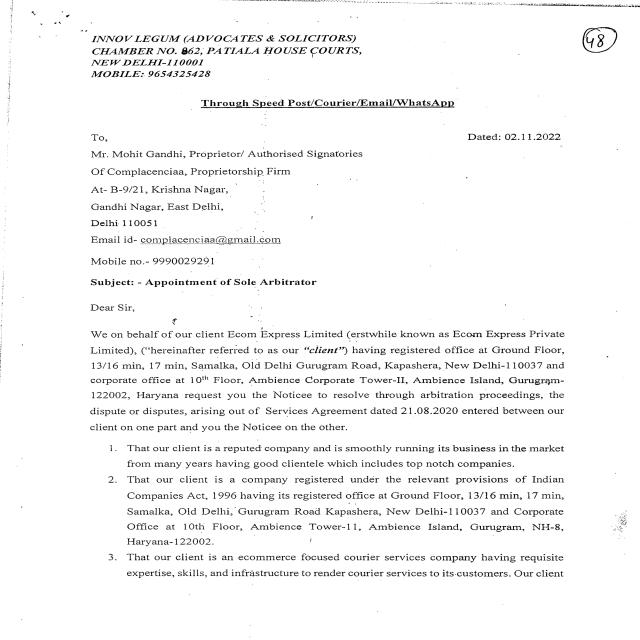page-number: (503, 8, 638, 115)
